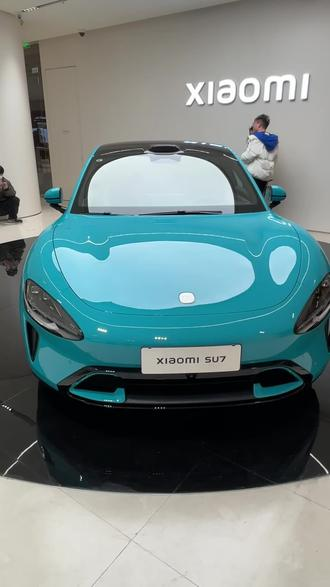other: (15, 129, 330, 410)
